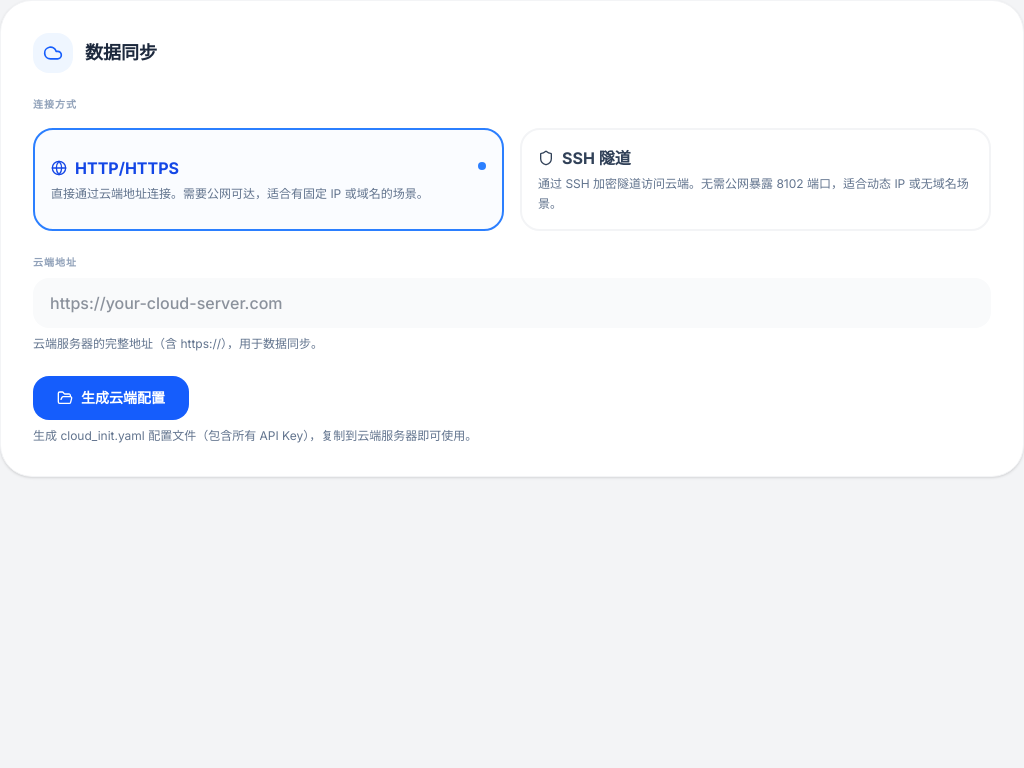
it: SyncConfigSection › Seam 3: 根据 key_is_new 显示不同提示 › should show warning styling when key_is_new is true
The width and height of the screenshot is (1024, 768).
Click the button "生成云端配置" at (111, 398), box [33,376,189,420]
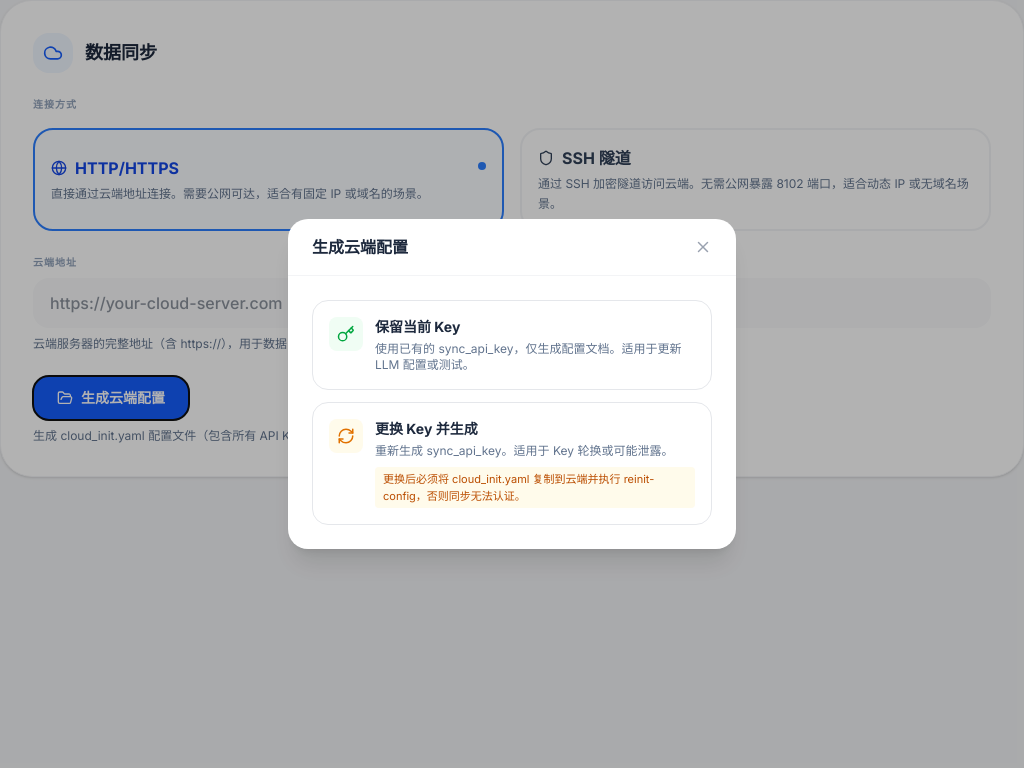
Check: the button "更换 Key 并生成" is shown
Click the button "更换 Key 并生成" at (346, 436), box [312,402,712,525]
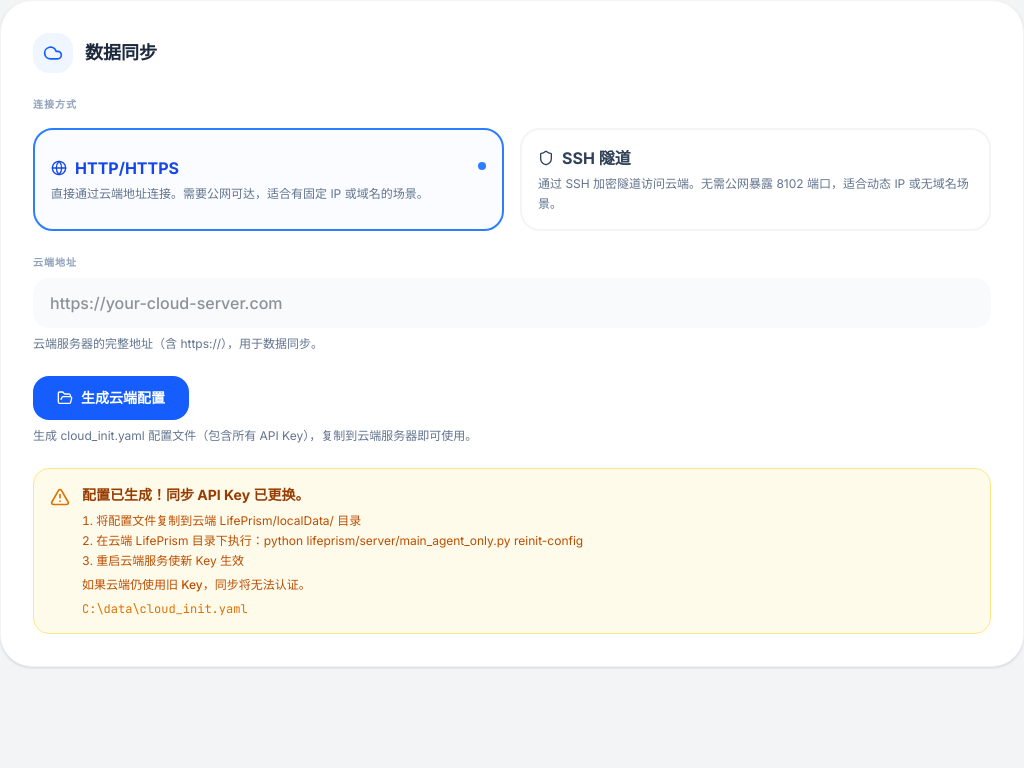
Check: the list item "reinit-config" is shown, box [96,533,583,548]
